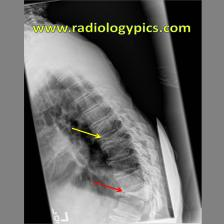compression-crush-fracture: (24, 0, 206, 224)
